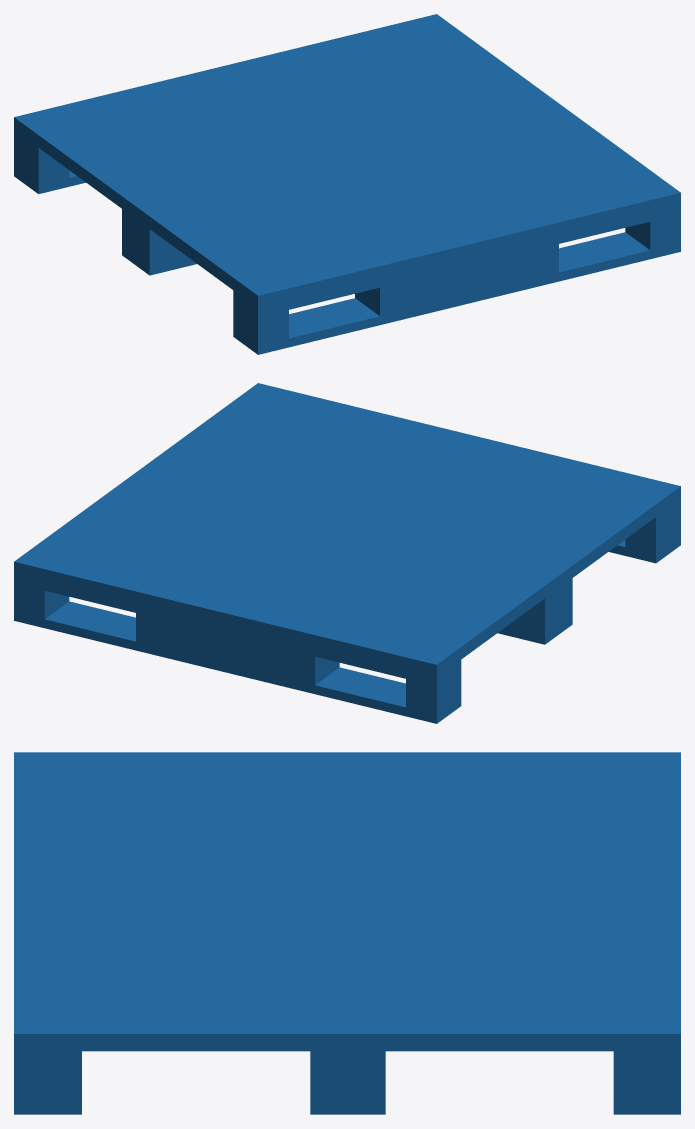
The model's file is blue-pallet.glb.
The picture shows the model from 3 angles, top to bottom: view 1: azimuth 30°, elevation 25°; view 2: azimuth 150°, elevation 25°; view 3: azimuth 270°, elevation 25°; orthographic projection. The views are drawn at different scales.
Parts seen in each view (by area): view 1: blue-pallet__蓝色塑料托盘; view 2: blue-pallet__蓝色塑料托盘; view 3: blue-pallet__蓝色塑料托盘.
Part boxes in pixels (x1,y1,x2,y2): blue-pallet__蓝色塑料托盘: [14, 14, 680, 354]; blue-pallet__蓝色塑料托盘: [14, 383, 680, 723]; blue-pallet__蓝色塑料托盘: [14, 752, 680, 1114].
Bounding box in the file's own units: 1.22 × 0.1631 × 1.22.
